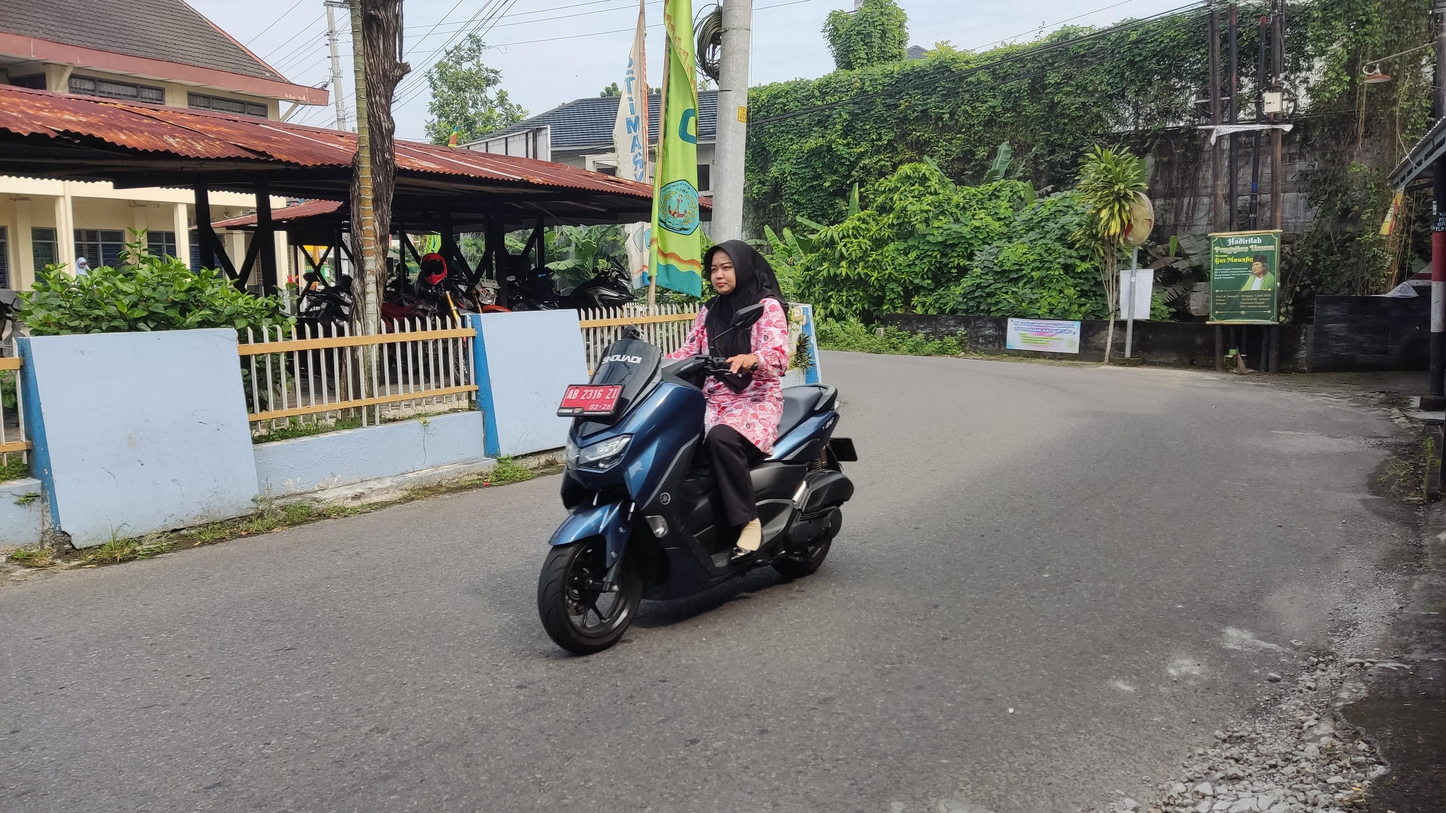nohelm: (700, 237, 769, 305)
riding: (530, 234, 864, 668)
